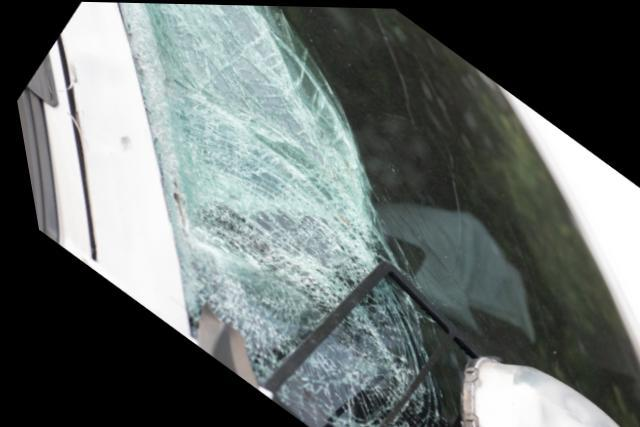glass shatter: (119, 2, 640, 427)
